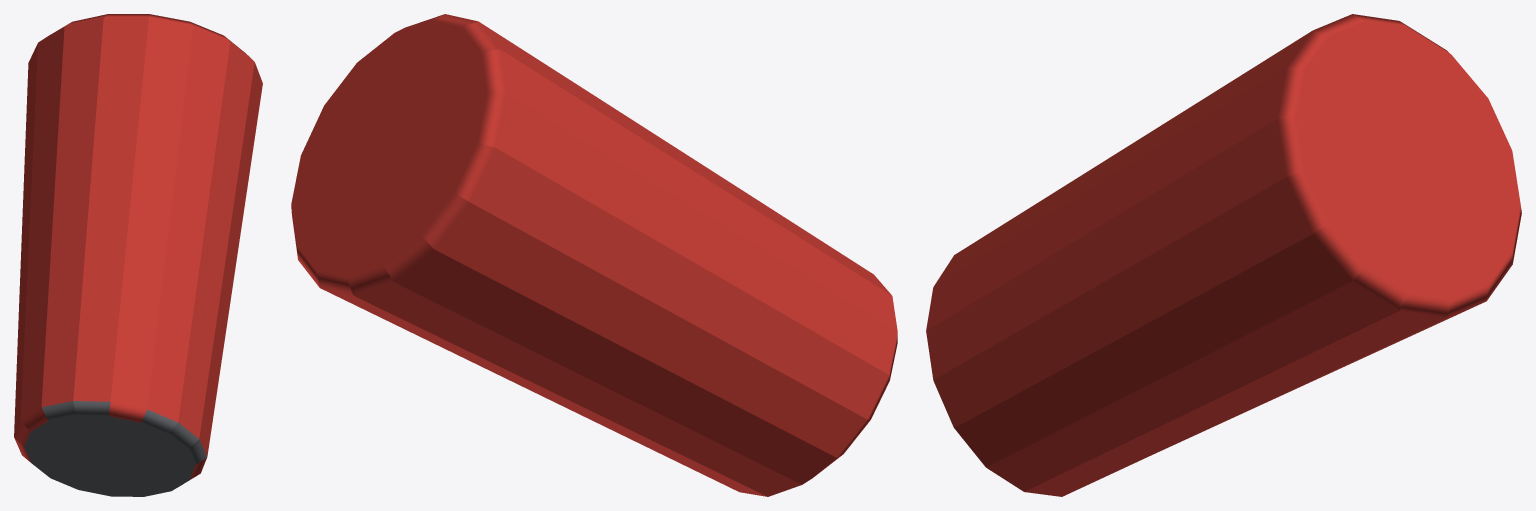
The model's file is SM_SB_Armor_lowerarm_r.fbx.
The picture shows the model from 3 angles, left to right: view 1: azimuth 30°, elevation 25°; view 2: azimuth 150°, elevation 25°; view 3: azimuth 270°, elevation 25°; orthographic projection. The views are drawn at different scales.
Parts seen in each view (by area): view 1: SM_SB_Armor_lowerarm_r; view 2: SM_SB_Armor_lowerarm_r; view 3: SM_SB_Armor_lowerarm_r.
Boxes of the visible parts, box(x1,y1,x2,y2) form: SM_SB_Armor_lowerarm_r: box(14, 14, 262, 496); SM_SB_Armor_lowerarm_r: box(291, 14, 897, 496); SM_SB_Armor_lowerarm_r: box(926, 14, 1521, 496).
Size of the model in its own units: 18.68 by 20.75 by 20.38.
